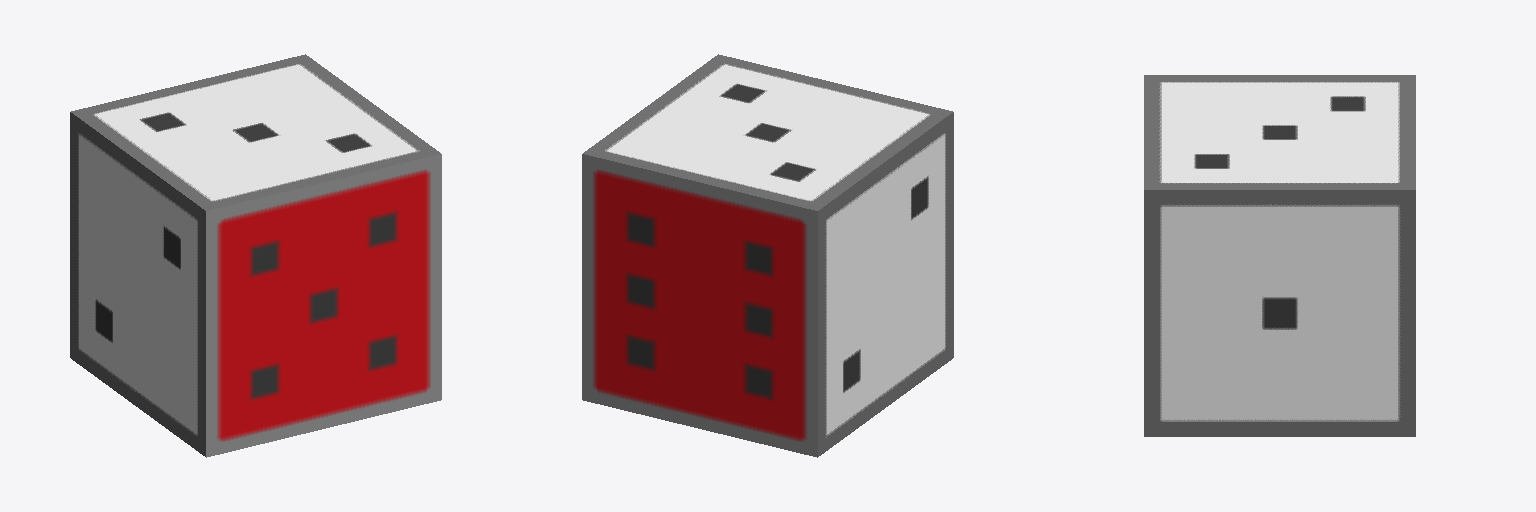
The picture shows the model from 3 angles: view 1: azimuth 30°, elevation 25°; view 2: azimuth 150°, elevation 25°; view 3: azimuth 270°, elevation 25°; orthographic projection.
Visible parts, largest first — view 1: cube; view 2: cube; view 3: cube.
Boxes of the visible parts, <box> form: cube: <box>70,54,441,457</box>; cube: <box>582,54,953,457</box>; cube: <box>1144,75,1415,436</box>.
Size of the model in its own units: 1 by 1 by 1.
Materials: 2 (2 with a texture image).